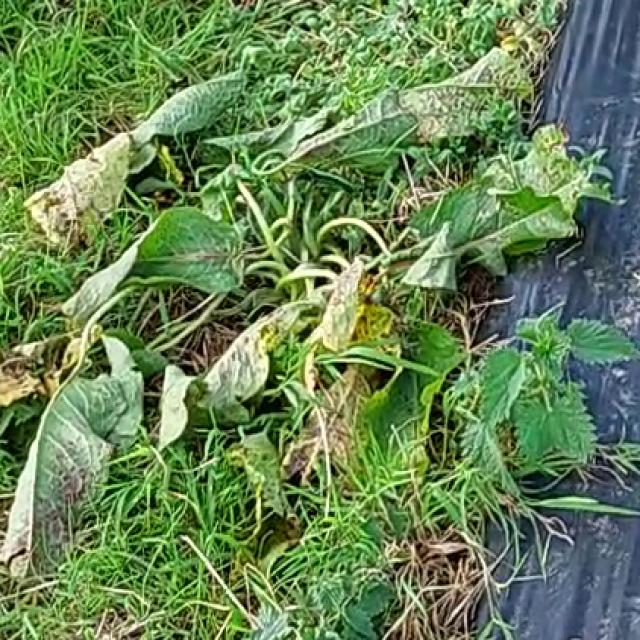organic waste: (6, 69, 573, 605)
